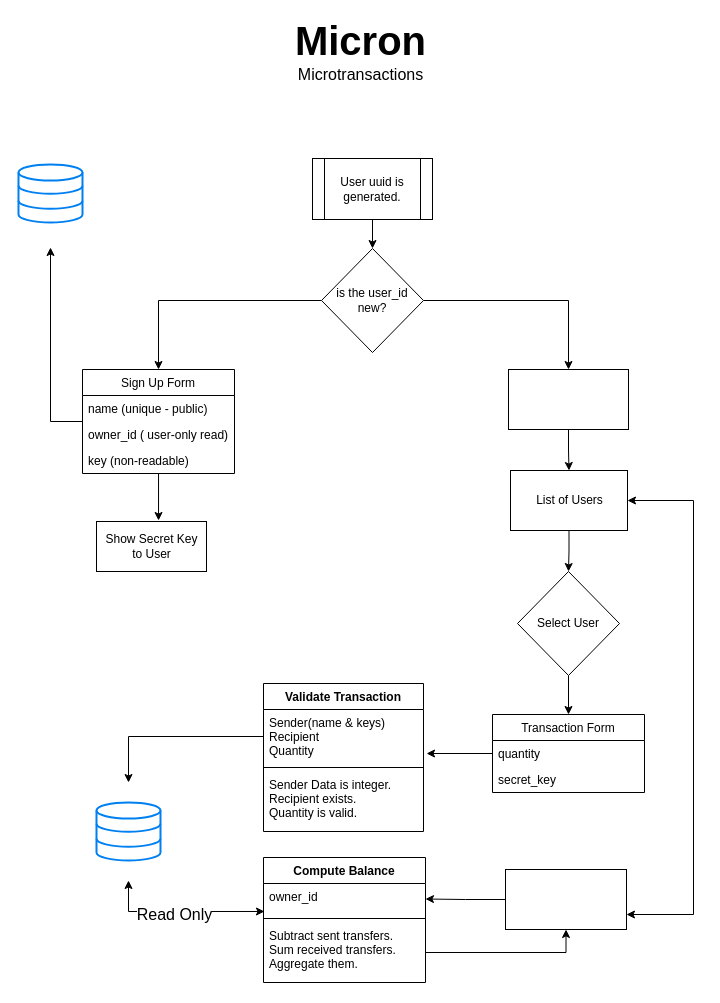
Image size: 720x1003. Some labels were removed from this diagram. Each missing label, with the centre of its shape:
Authenticated View: (568,399)
Ledger: (128,831)
Show Balance: (565,899)
Users: (50,193)
